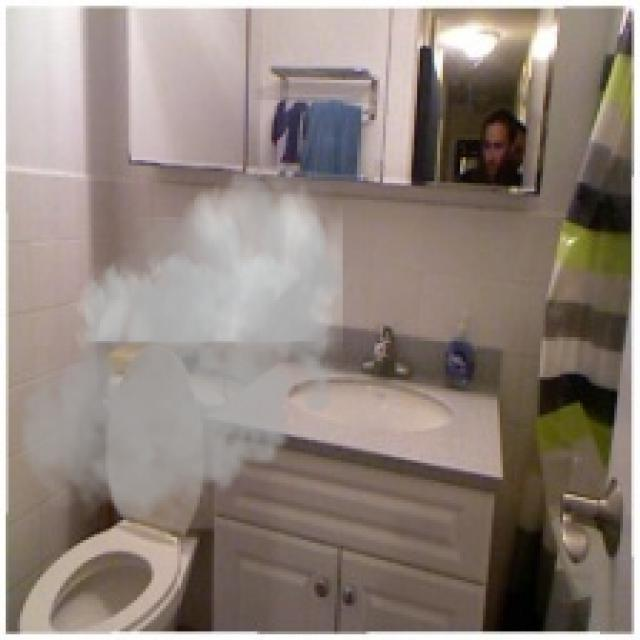Smoke: (12, 165, 357, 538)
